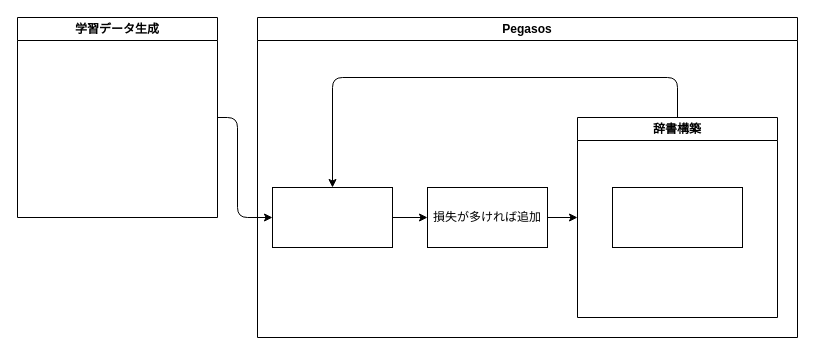
Some shapes in this 815 by 355 pixel diagram are drawn without their labels. The centre of each missing label's shape, as x and y in pixels:
入力グラフを ランダムで１つ選ぶ: (x=332, y=217)
辞書更新(係数に応じて) 係数更新(直交射影): (x=677, y=217)
